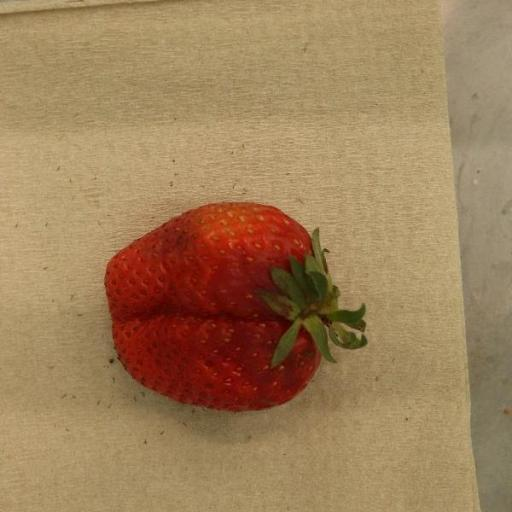Strawberry: (104, 203, 368, 412)
